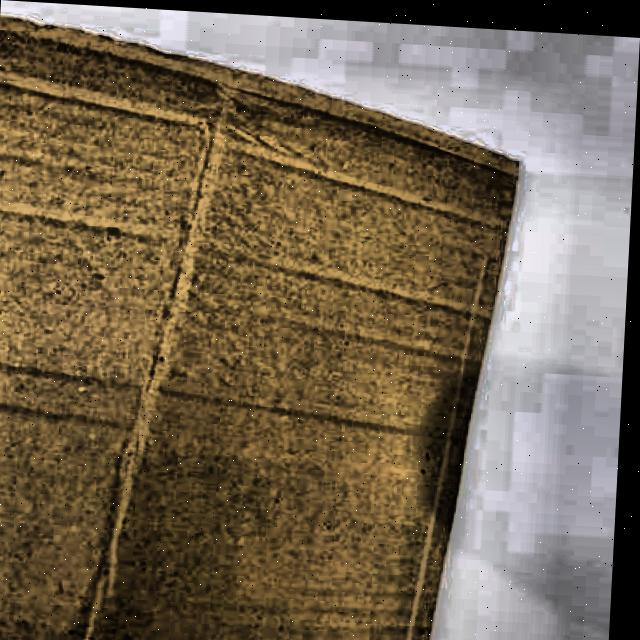cardboard: (0, 13, 526, 640)
